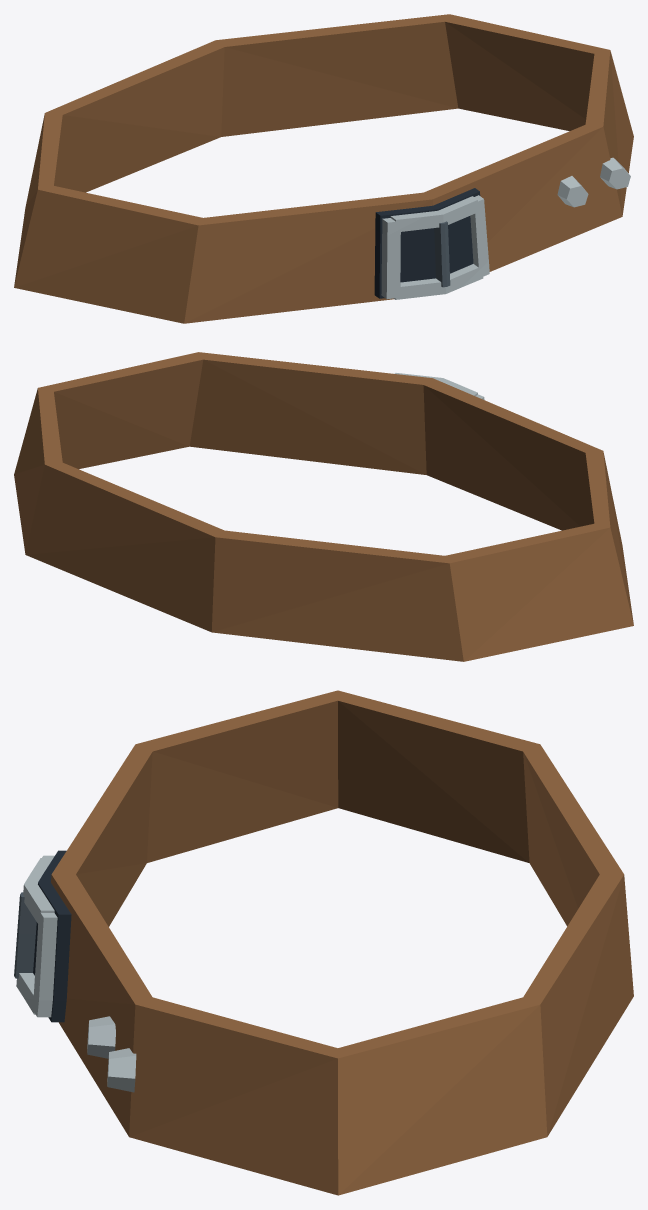
Rendered from studded_waist-female.glb.
3 views of the same model, one above another, from view 1: azimuth 30°, elevation 25°; view 2: azimuth 150°, elevation 25°; view 3: azimuth 270°, elevation 25° (orthographic). The views are drawn at different scales.
Visible parts, largest first — view 1: studded waist band, Buckle recessed backplate, Buckle side rail -0.145, Buckle cross rail 4.506, Buckle cross rail 4.294, Buckle side rail 0.145, Buckle pin, Set rivet studded waist band -1, Set rivet studded waist band 1; view 2: studded waist band; view 3: studded waist band, Buckle recessed backplate, Buckle side rail 0.145, Buckle pin, Set rivet studded waist band 1, Buckle cross rail 4.506, Set rivet studded waist band -1.
Boxes of the visible parts, bbox=[...] form: studded waist band: bbox=[14, 14, 633, 323]; Buckle recessed backplate: bbox=[374, 188, 480, 298]; Buckle side rail -0.145: bbox=[381, 218, 400, 299]; Buckle cross rail 4.506: bbox=[390, 196, 477, 231]; Buckle cross rail 4.294: bbox=[394, 264, 483, 299]; Buckle side rail 0.145: bbox=[470, 195, 489, 277]; Buckle pin: bbox=[434, 221, 450, 287]; Set rivet studded waist band -1: bbox=[557, 176, 588, 207]; Set rivet studded waist band 1: bbox=[600, 157, 630, 189]; studded waist band: bbox=[14, 352, 633, 661]; studded waist band: bbox=[51, 690, 633, 1195]; Buckle recessed backplate: bbox=[33, 850, 71, 1022]; Buckle side rail 0.145: bbox=[32, 911, 57, 1017]; Buckle pin: bbox=[14, 892, 36, 978]; Set rivet studded waist band 1: bbox=[107, 1048, 136, 1092]; Buckle cross rail 4.506: bbox=[23, 858, 54, 923]; Set rivet studded waist band -1: bbox=[87, 1016, 115, 1058].
Size of the model in its own units: 2.03 by 0.2895 by 1.34.
